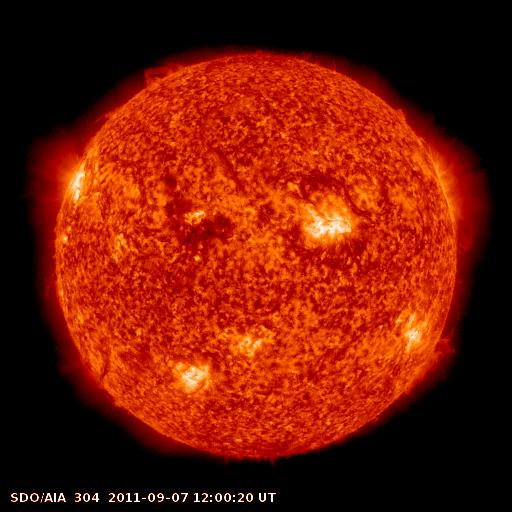prominence: (397, 335, 459, 396), (132, 54, 193, 93)
